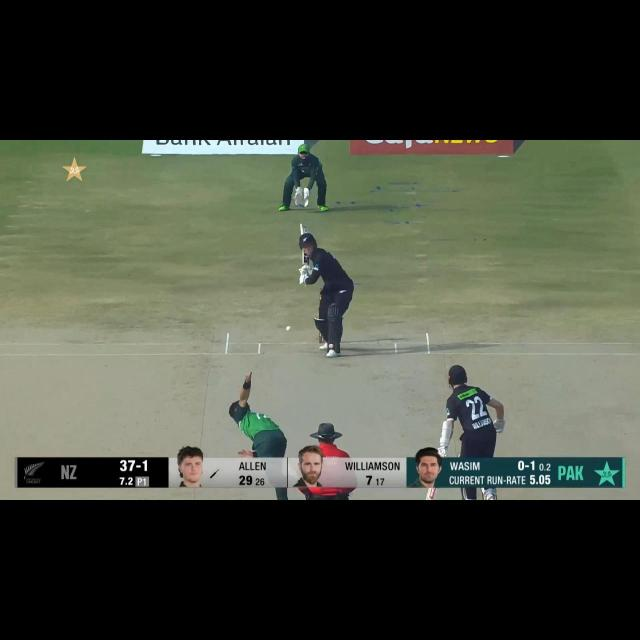bat: (423, 483, 436, 502), (302, 252, 312, 266)
toe: (300, 224, 312, 234)
